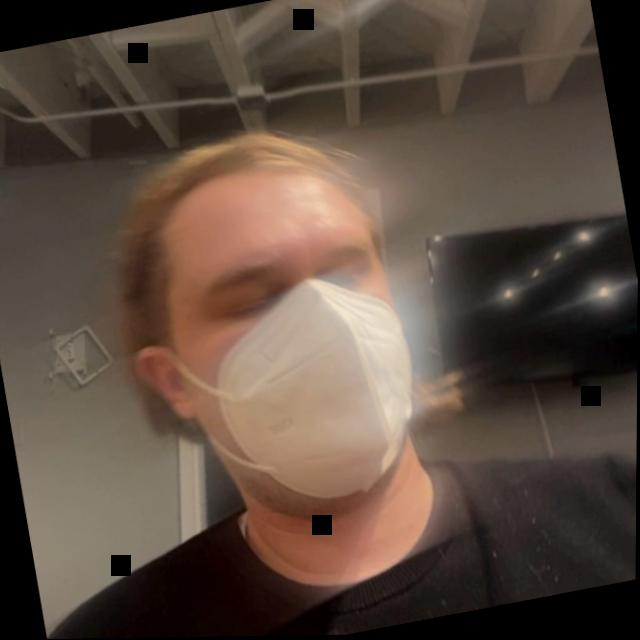Mask: (18, 80, 508, 619)
